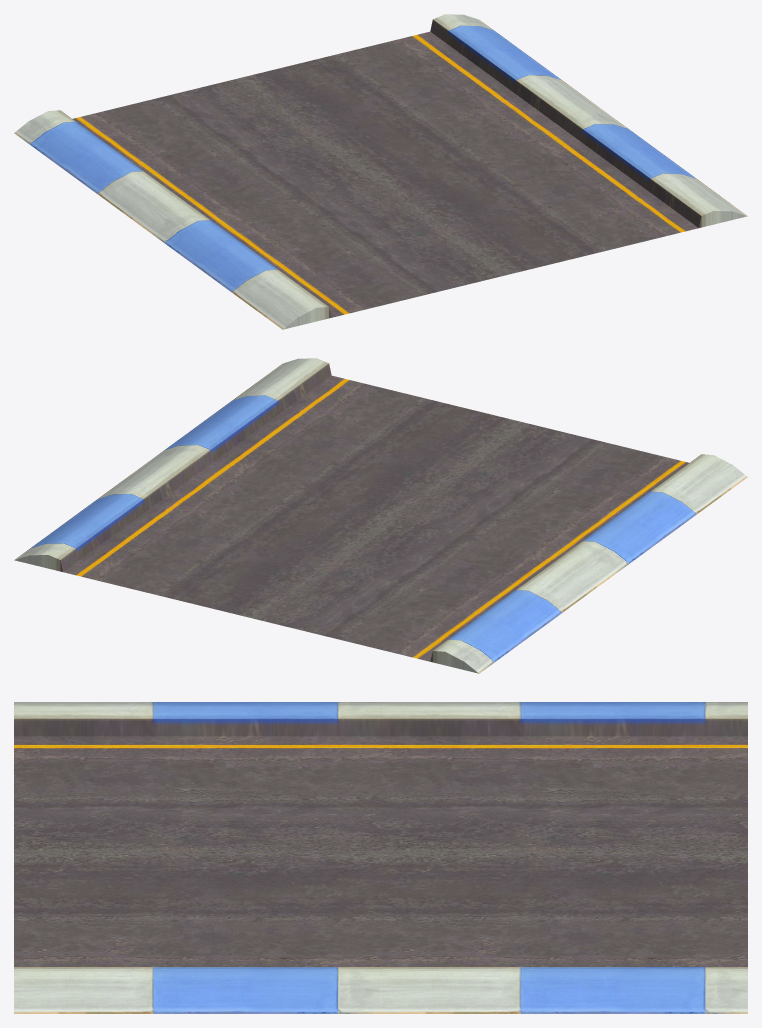
The model's file is RoadStraight.FBX.
The picture shows the model from 3 angles, top to bottom: view 1: azimuth 30°, elevation 25°; view 2: azimuth 150°, elevation 25°; view 3: azimuth 270°, elevation 25°; orthographic projection. The views are drawn at different scales.
Parts seen in each view (by area): view 1: RoadStraight; view 2: RoadStraight; view 3: RoadStraight.
Part boxes in pixels (x1=…): RoadStraight: x1=14, y1=14, x2=747, y2=329; RoadStraight: x1=14, y1=358, x2=747, y2=673; RoadStraight: x1=14, y1=702, x2=747, y2=1013.
Size of the model in its own units: 1000 by 28.17 by 1000.
Materials: 1 (1 with a texture image).
